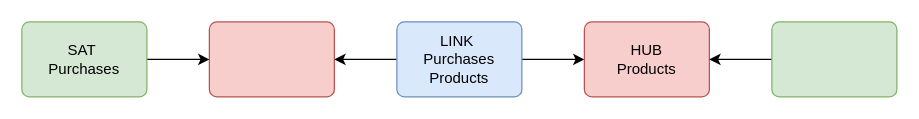
The diagram is 919 pixels wide and 119 high, and some of its shapes have lost their labels. The centre of each missing label's shape, as x and y in pixels:
"HUB Purchases" goes at [271,59].
"SAT Products" goes at [834,59].
